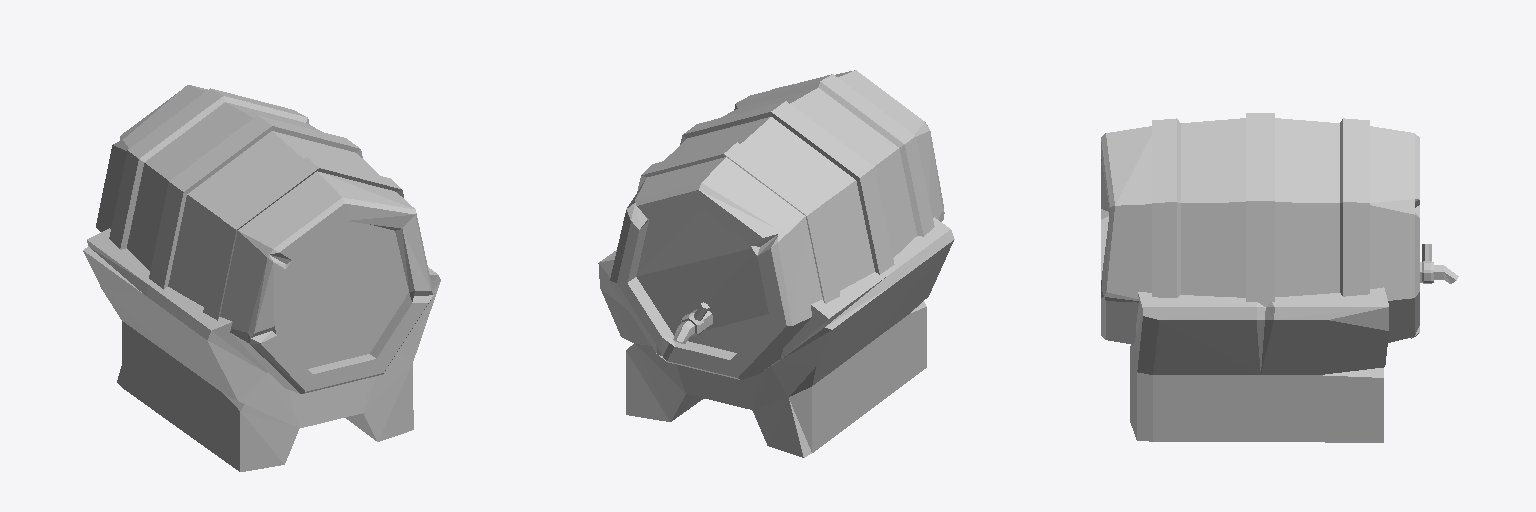
Rendered from barrel01.obj.
The picture shows the model from 3 angles: view 1: azimuth 30°, elevation 25°; view 2: azimuth 150°, elevation 25°; view 3: azimuth 270°, elevation 25°; orthographic projection.
Visible parts, largest first — view 1: barrel01; view 2: barrel01; view 3: barrel01.
Boxes of the visible parts, <box> form: barrel01: <box>83,85,440,471</box>; barrel01: <box>598,70,954,457</box>; barrel01: <box>1101,113,1458,442</box>.
Bounding box in the file's own units: 0.0268 × 0.0308 × 0.035.